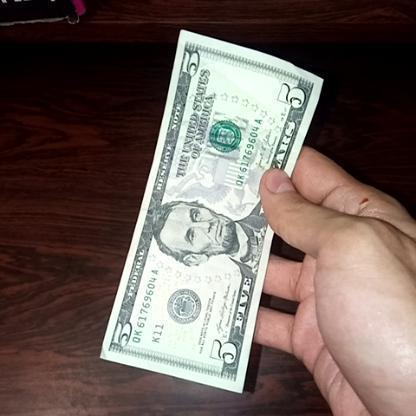five-front: (102, 27, 325, 398)
